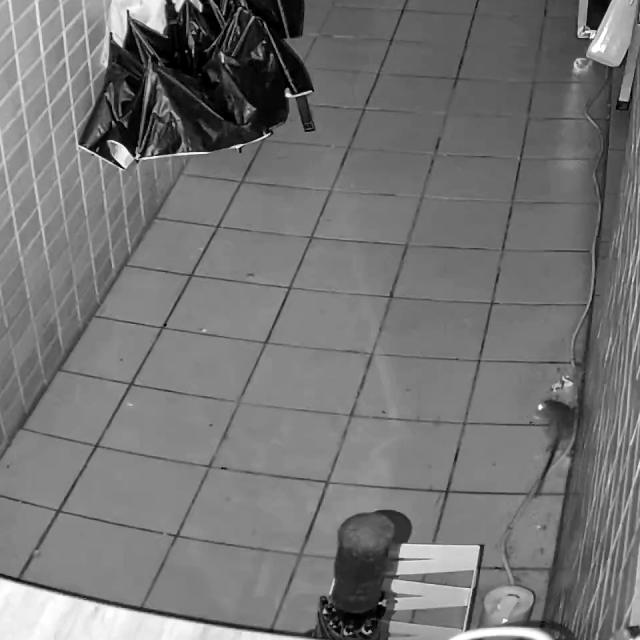rat: (531, 396, 579, 498)
